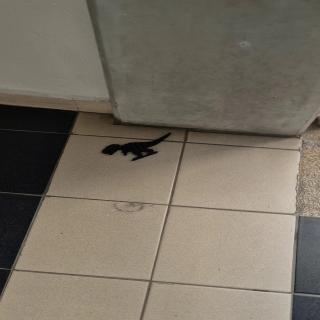dino: (101, 132, 172, 162)
